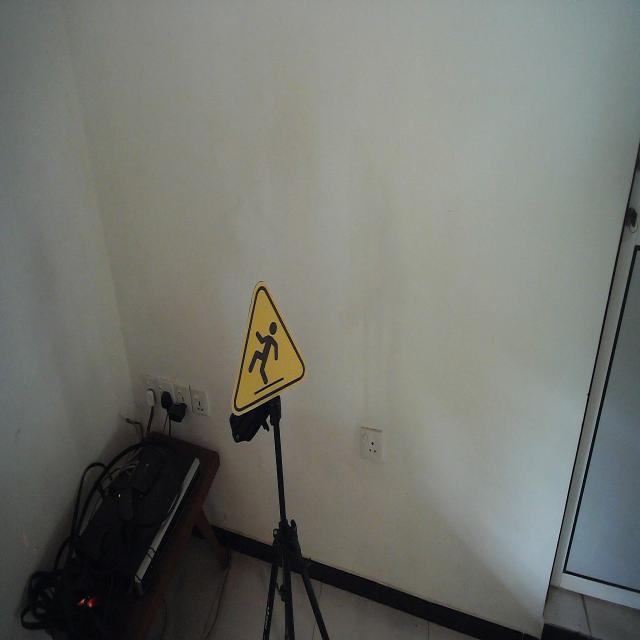slippery_sign: (230, 276, 308, 420)
